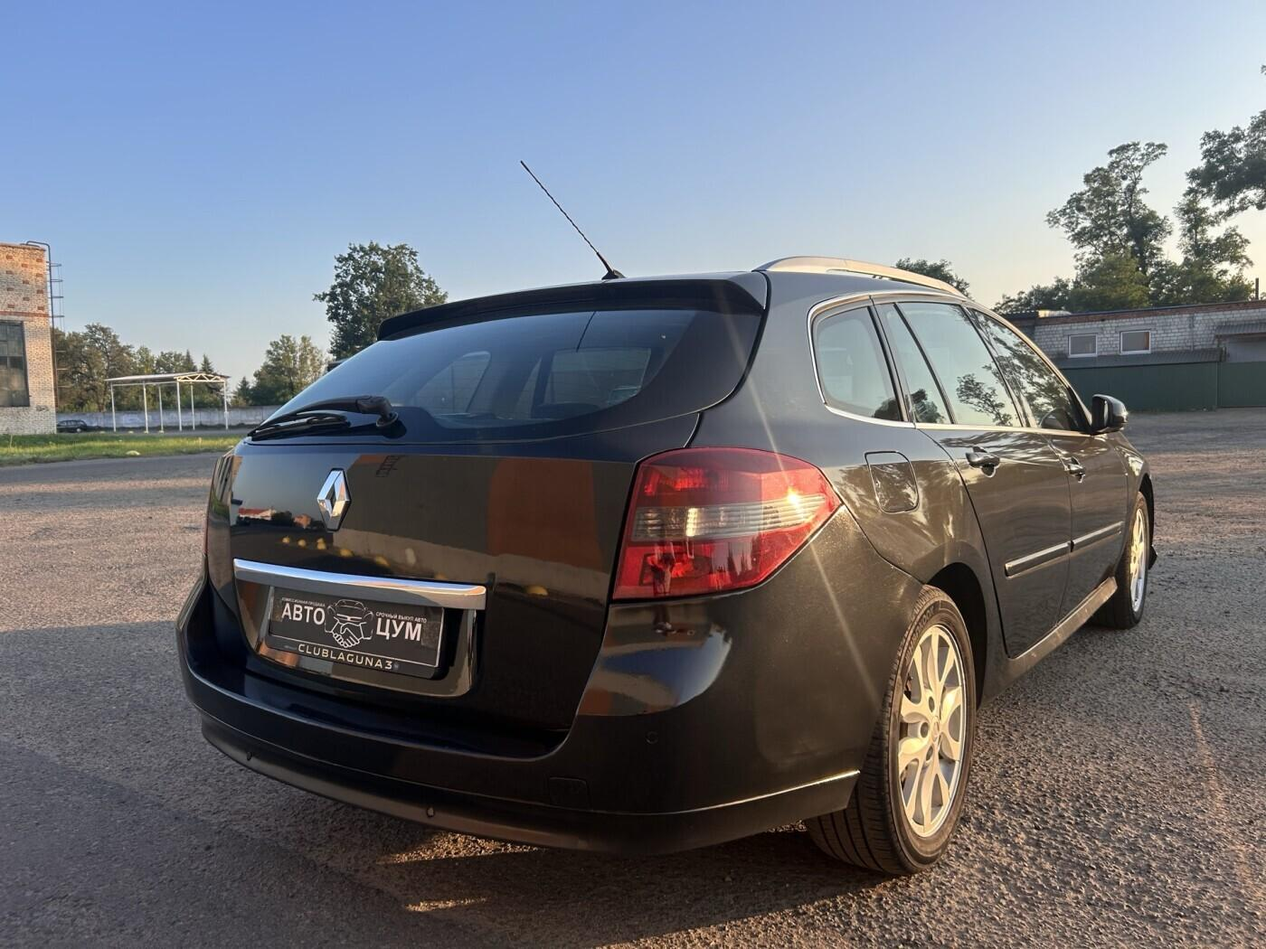Laguna_2007-2011: (176, 258, 1155, 874)
